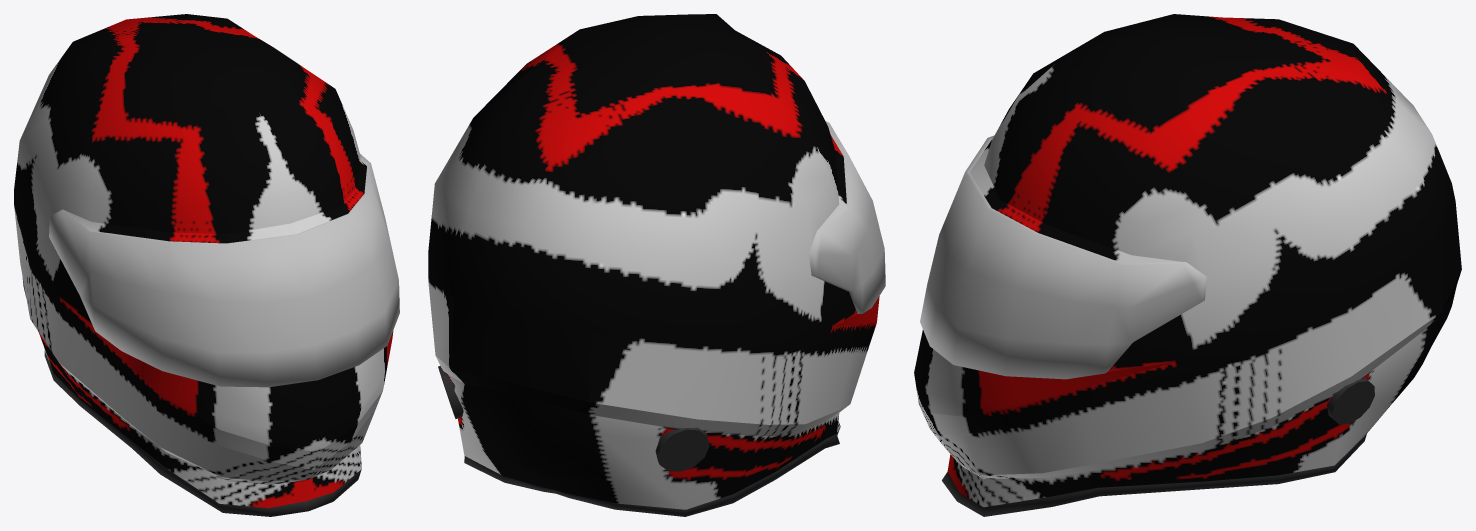
Rendered from helmet.glb.
The picture shows the model from 3 angles, left to right: view 1: azimuth 30°, elevation 25°; view 2: azimuth 150°, elevation 25°; view 3: azimuth 270°, elevation 25°; orthographic projection. The views are drawn at different scales.
Parts seen in each view (by area): view 1: textured_Circle.002, visor_Circle.001, helmet_Circle; view 2: textured_Circle.002, visor_Circle.001, helmet_Circle, components_Cylinder; view 3: textured_Circle.002, visor_Circle.001, helmet_Circle, components_Cylinder.
Part boxes in pixels (bbox=[...]): textured_Circle.002: bbox=[14, 14, 393, 508]; visor_Circle.001: bbox=[49, 154, 399, 387]; helmet_Circle: bbox=[44, 351, 361, 516]; textured_Circle.002: bbox=[428, 14, 879, 509]; visor_Circle.001: bbox=[808, 121, 885, 313]; helmet_Circle: bbox=[464, 429, 839, 516]; components_Cylinder: bbox=[438, 366, 709, 471]; textured_Circle.002: bbox=[914, 14, 1461, 507]; visor_Circle.001: bbox=[920, 135, 1206, 379]; helmet_Circle: bbox=[942, 434, 1366, 516]; components_Cylinder: bbox=[1327, 378, 1374, 424].
Bounding box in the file's own units: 26.03 × 32.77 × 36.39.
6 materials, 1 textured.
